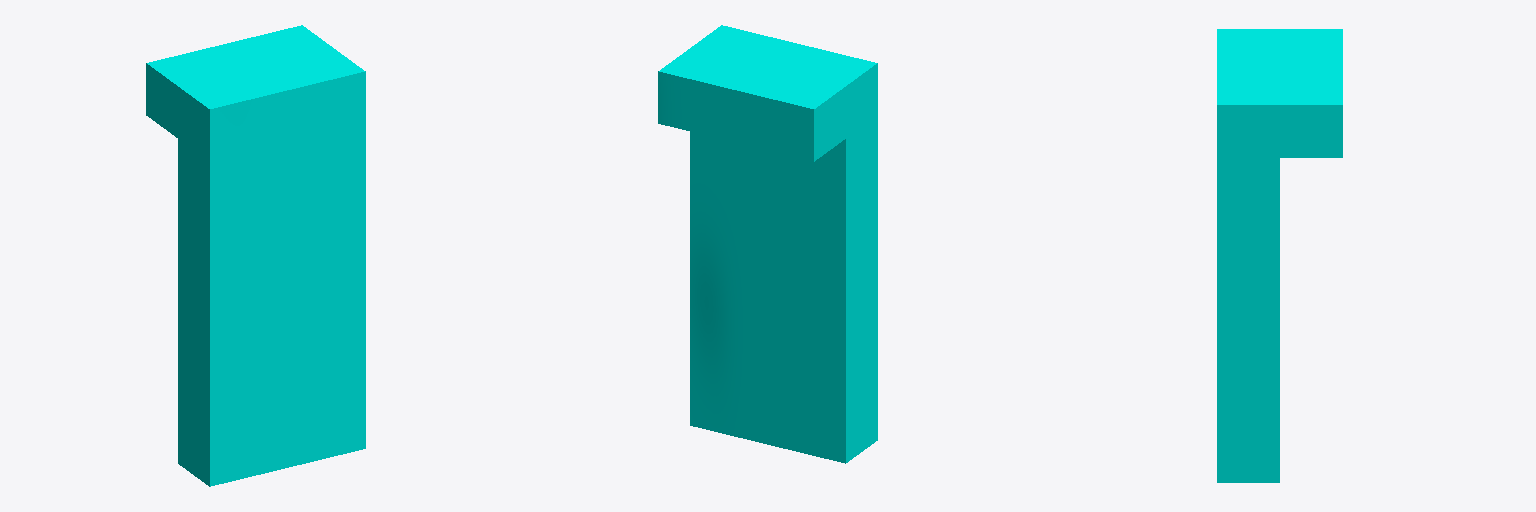
The picture shows the model from 3 angles: view 1: azimuth 30°, elevation 25°; view 2: azimuth 150°, elevation 25°; view 3: azimuth 270°, elevation 25°; orthographic projection.
Visible parts, largest first — view 1: Cube; view 2: Cube; view 3: Cube.
Boxes of the visible parts, box(x1,y1,x2,y2) form: Cube: box(146, 25, 365, 486); Cube: box(658, 25, 877, 463); Cube: box(1217, 29, 1342, 482).
Size of the model in its own units: 1 by 2.31 by 0.7037.
2 materials, 1 textured.